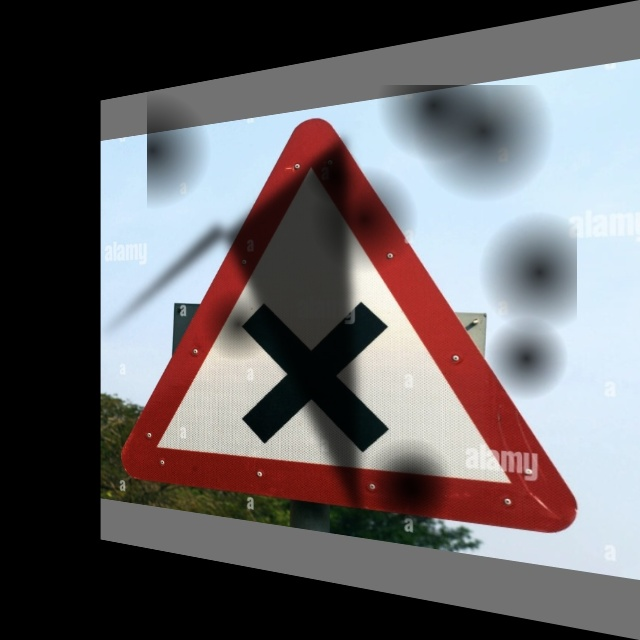Cross_Road: (147, 85, 577, 539)
